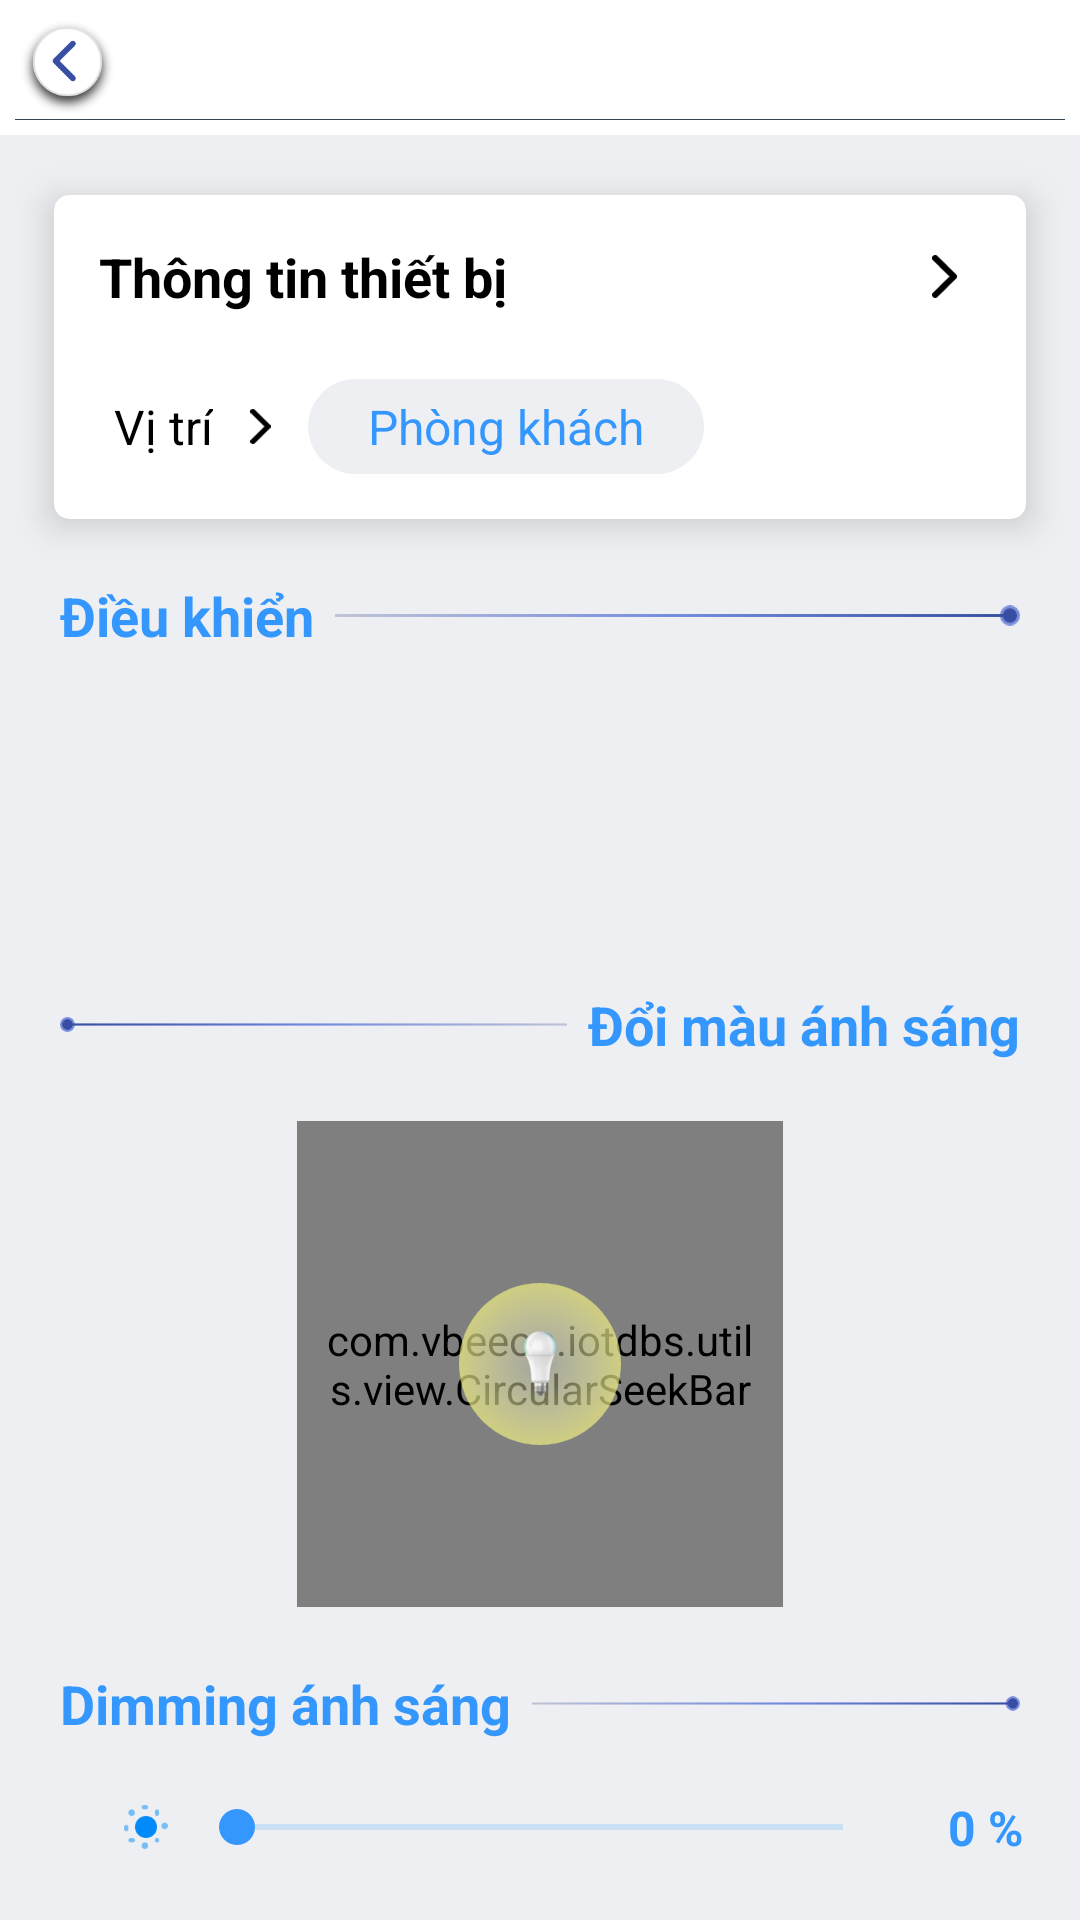

Where to tap for icons on this 1080px x 1920px app screen, as (x,y):
back circle: (67,67)
diming: (146,1827)
